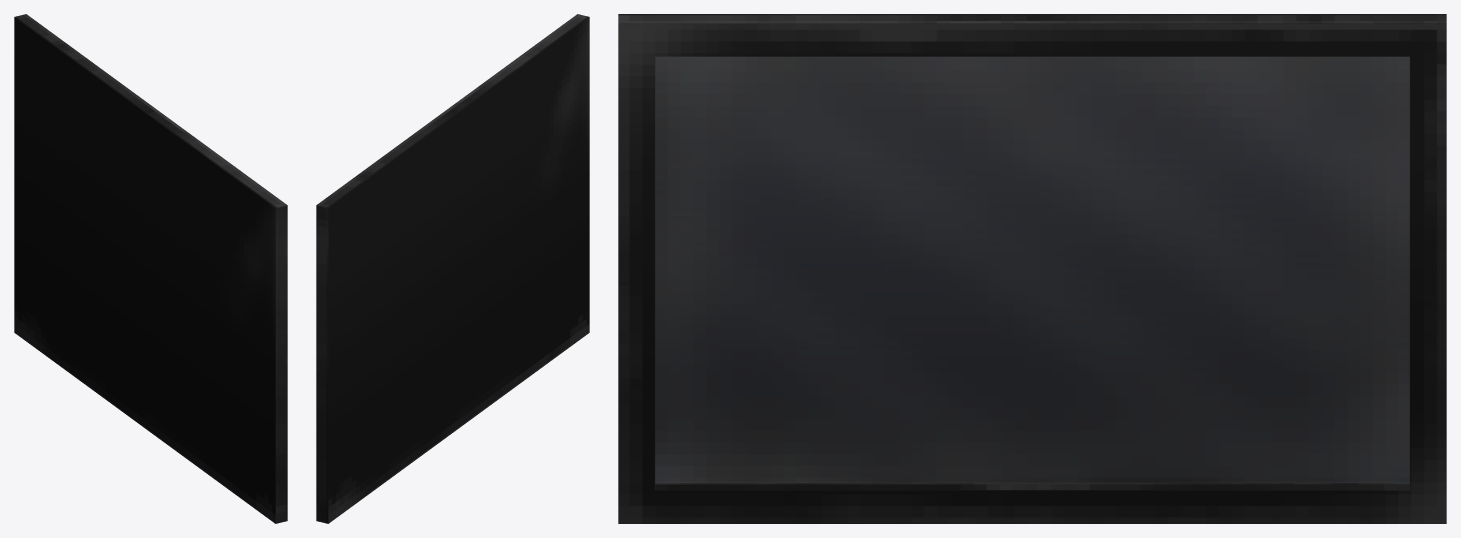
File: mirror.obj
The picture shows the model from 3 angles, left to right: view 1: azimuth 30°, elevation 25°; view 2: azimuth 150°, elevation 25°; view 3: azimuth 270°, elevation 25°; orthographic projection. The views are drawn at different scales.
Parts seen in each view (by area): view 1: mirror; view 2: mirror; view 3: mirror.
Boxes of the visible parts, box(x1,y1,x2,y2) form: mirror: box(14, 14, 287, 523); mirror: box(316, 14, 589, 523); mirror: box(618, 14, 1446, 523).
Size of the model in its own units: 0.04 by 1 by 1.5.
